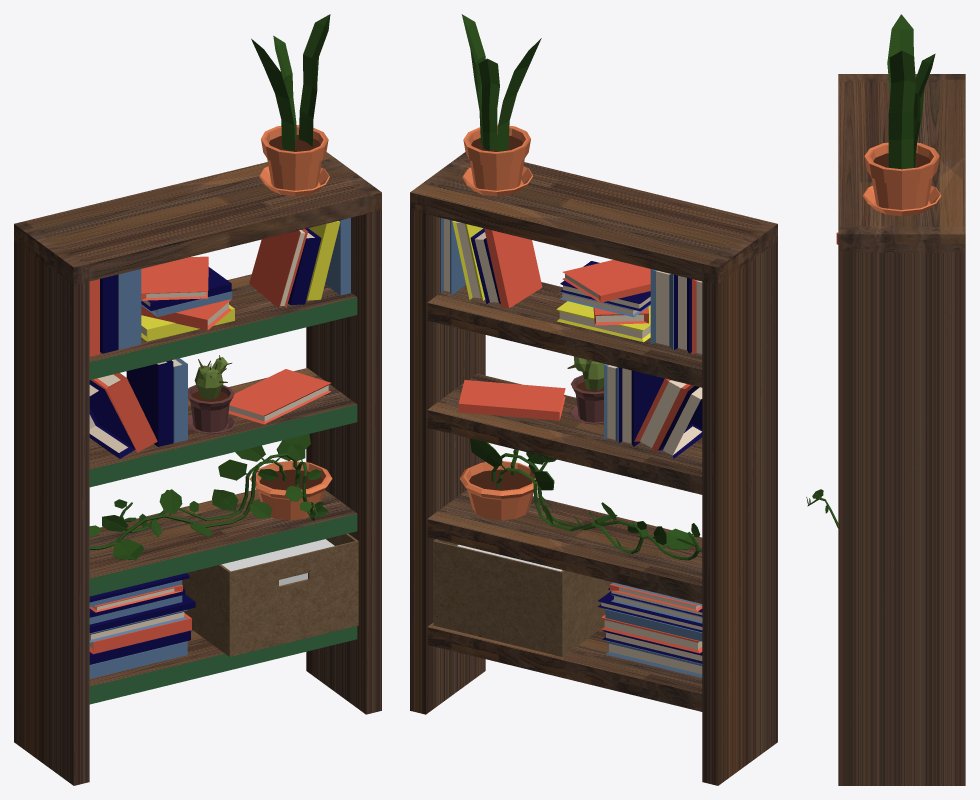
Rendered from bokhylla.glb.
3 renders of one model, left to right at view 1: azimuth 30°, elevation 25°; view 2: azimuth 150°, elevation 25°; view 3: azimuth 270°, elevation 25°, orthographic. The views are drawn at different scales.
Visible parts, largest first — view 1: bokhylla; view 2: bokhylla; view 3: bokhylla.
Part boxes in pixels (x1=…): bokhylla: x1=14, y1=14, x2=381, y2=785; bokhylla: x1=410, y1=14, x2=777, y2=785; bokhylla: x1=806, y1=14, x2=965, y2=785.
Size of the model in its own units: 0.922 by 1.94 by 0.3884.
Materials: 15 (2 with a texture image).
